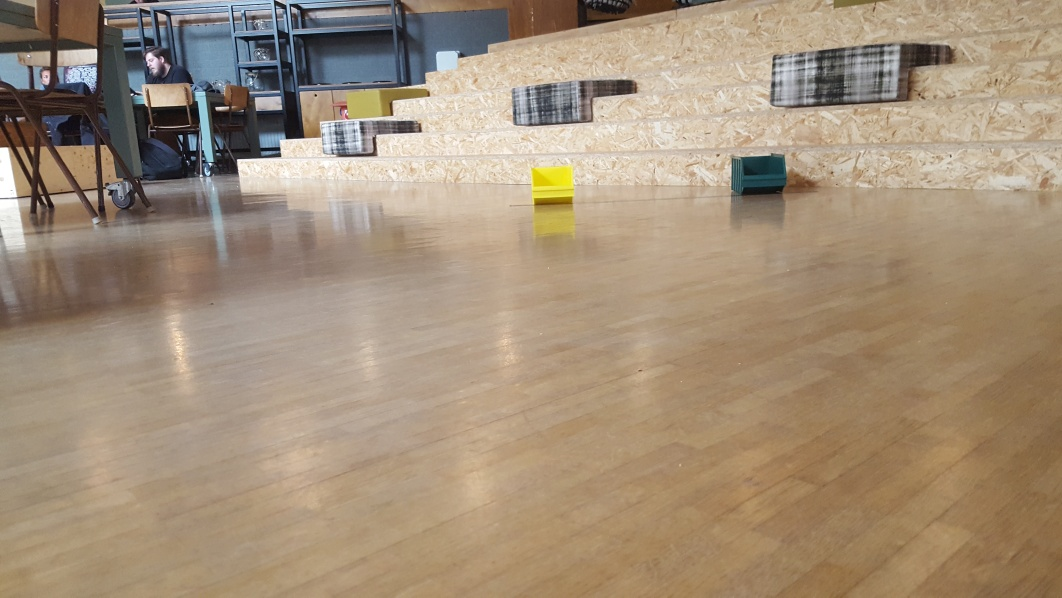tray: (729, 152, 790, 198), (530, 165, 577, 205)
